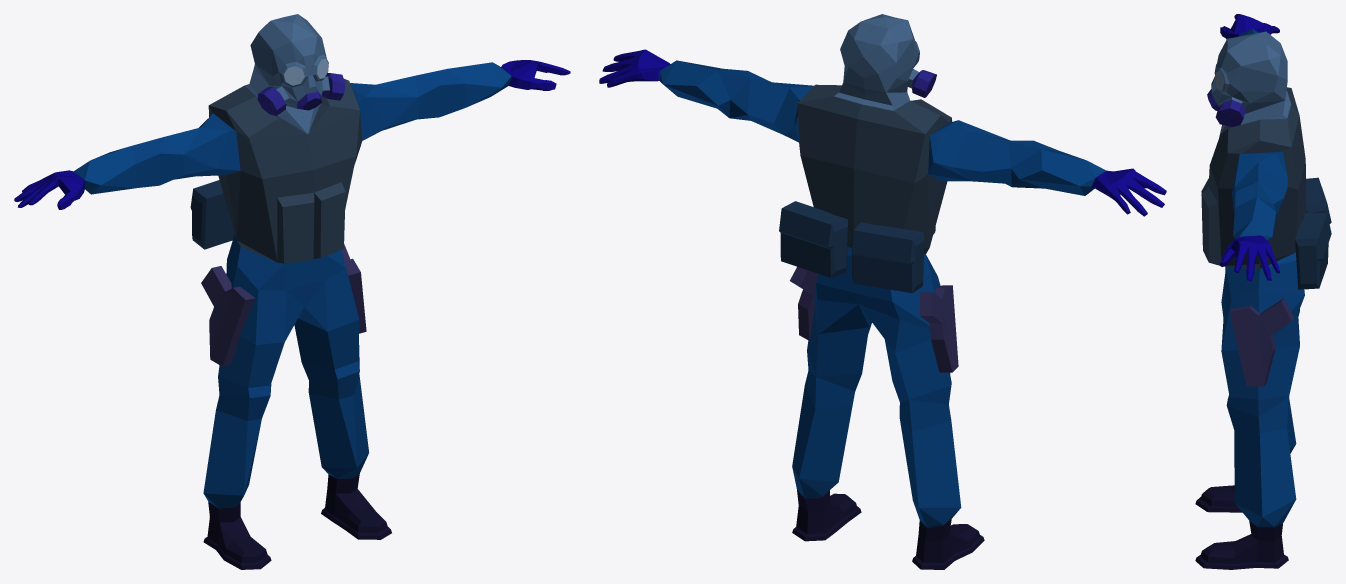
3 views of the same model, side by side, from view 1: azimuth 30°, elevation 25°; view 2: azimuth 150°, elevation 25°; view 3: azimuth 270°, elevation 25° (orthographic). The views are drawn at different scales.
Parts seen in each view (by area): view 1: Counter Terrorist; view 2: Counter Terrorist; view 3: Counter Terrorist.
Part boxes in pixels (<box>): Counter Terrorist: <box>14,14,570,569</box>; Counter Terrorist: <box>599,14,1166,569</box>; Counter Terrorist: <box>1195,14,1331,569</box>.
Size of the model in its own units: 416 by 371 by 92.32.
